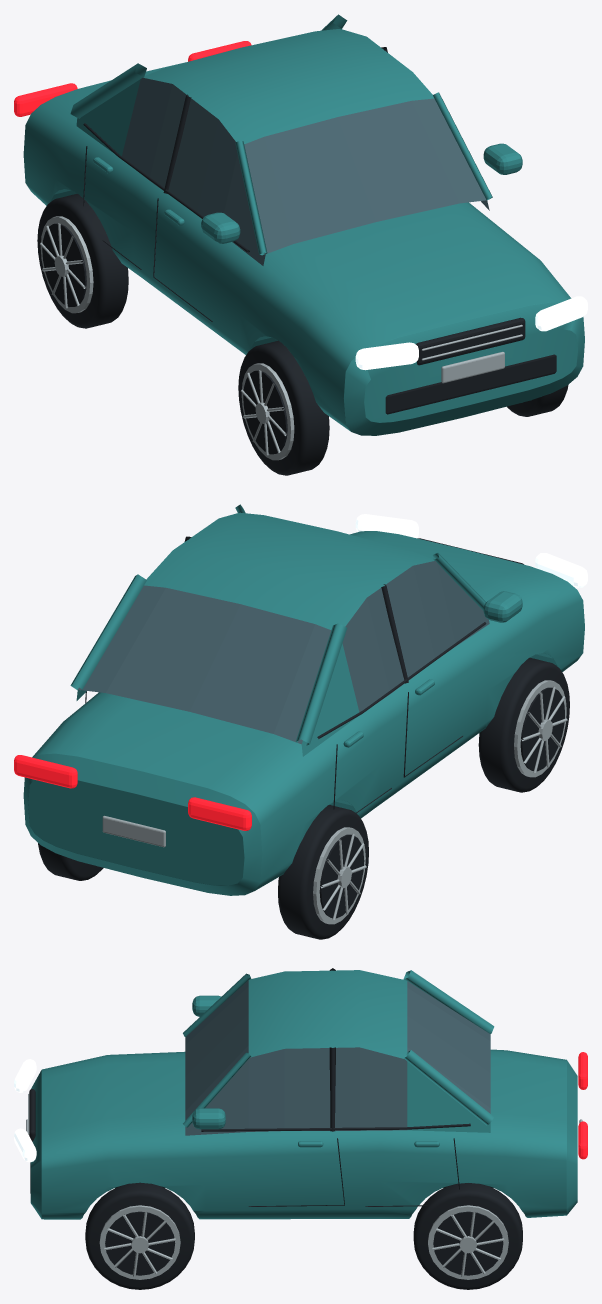
The model's file is car-1.glb.
3 views of the same model, one above another, from view 1: azimuth 30°, elevation 25°; view 2: azimuth 150°, elevation 25°; view 3: azimuth 270°, elevation 25° (orthographic). The views are drawn at different scales.
Visible parts, largest first — view 1: Paint, Integrated cabin, Tyres and trim, Machined alloy, Headlight lens, Rear LED; view 2: Paint, Integrated cabin, Tyres and trim, Machined alloy, Rear LED, Headlight lens; view 3: Paint, Integrated cabin, Tyres and trim, Machined alloy, Headlight lens, Rear LED.
Boxes of the visible parts, bbox=[...] form: Paint: bbox=[23, 14, 584, 435]; Integrated cabin: bbox=[76, 29, 489, 265]; Tyres and trim: bbox=[37, 47, 568, 475]; Machined alloy: bbox=[40, 216, 522, 460]; Headlight lens: bbox=[355, 296, 587, 370]; Rear LED: bbox=[14, 41, 251, 116]; Paint: bbox=[23, 504, 584, 895]; Integrated cabin: bbox=[76, 512, 489, 756]; Tyres and trim: bbox=[38, 536, 569, 939]; Machined alloy: bbox=[102, 680, 567, 924]; Rear LED: bbox=[14, 755, 251, 830]; Headlight lens: bbox=[355, 514, 587, 587]; Paint: bbox=[30, 970, 577, 1219]; Integrated cabin: bbox=[185, 970, 490, 1135]; Tyres and trim: bbox=[29, 968, 522, 1289]; Machined alloy: bbox=[26, 1094, 582, 1279]; Headlight lens: bbox=[14, 1059, 36, 1162]; Rear LED: bbox=[578, 1052, 587, 1159].
Size of the model in its own units: 0.366 by 0.325 by 0.724.
